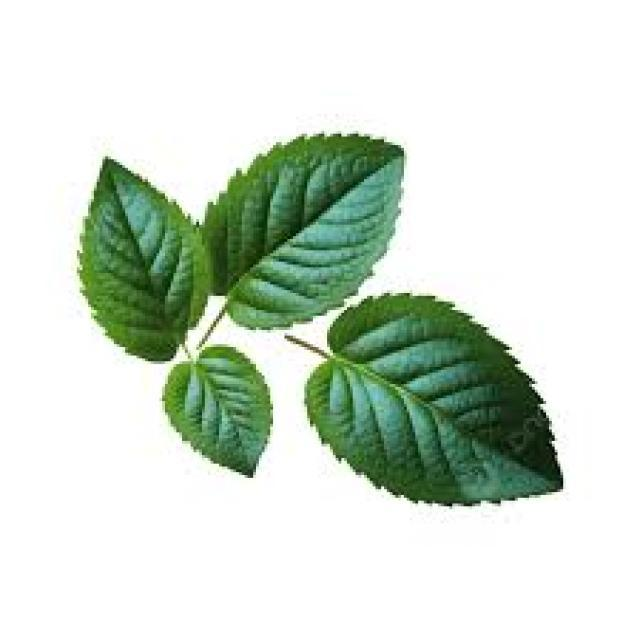leaf: (296, 291, 563, 507), (200, 130, 405, 330), (76, 154, 210, 361), (161, 344, 273, 477)
